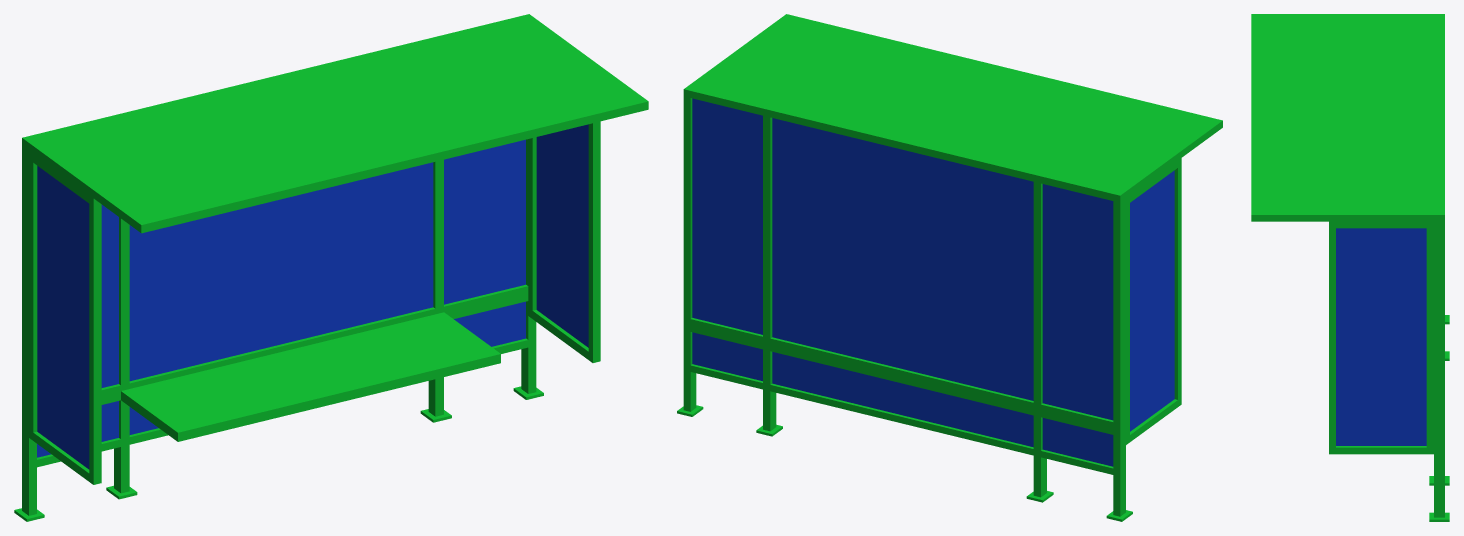
File: House.fbx
3 views of the same model, side by side, from view 1: azimuth 30°, elevation 25°; view 2: azimuth 150°, elevation 25°; view 3: azimuth 270°, elevation 25° (orthographic). The views are drawn at different scales.
Visible parts, largest first — view 1: House; view 2: House; view 3: House.
Boxes of the visible parts, x1,y1,x2,y2 form: House: (14,14,648,521); House: (677,14,1222,521); House: (1251,14,1449,521).
Size of the model in its own units: 443 by 181 by 308.
